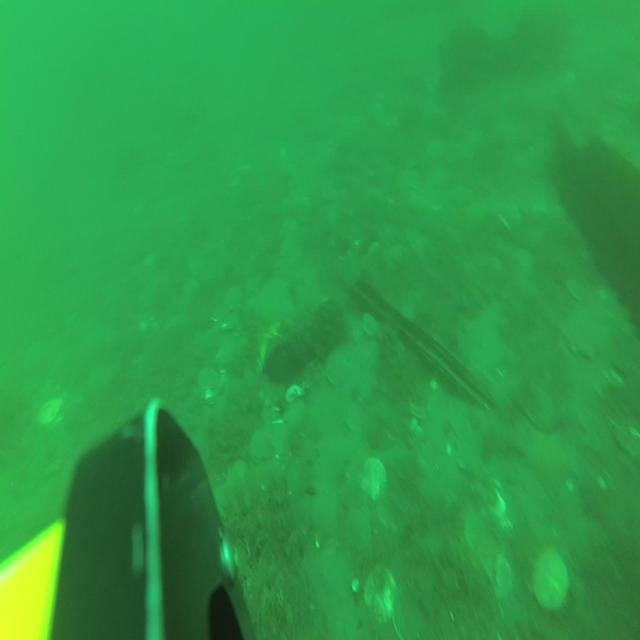scallop: (564, 303, 605, 356), (534, 549, 569, 611), (363, 563, 396, 626), (361, 460, 388, 506), (38, 397, 65, 428), (325, 352, 349, 386), (252, 427, 273, 463), (270, 423, 293, 454), (198, 366, 221, 397), (286, 398, 308, 428), (226, 286, 243, 311)
